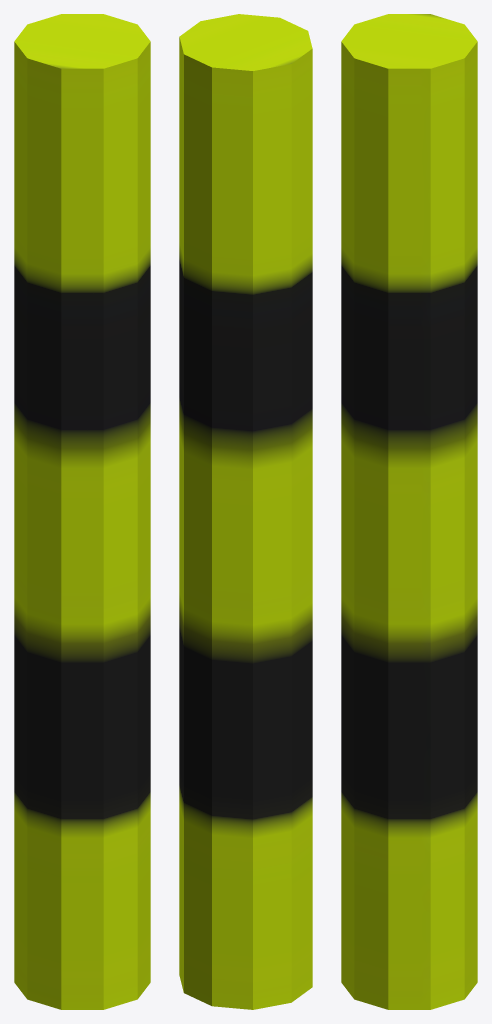
File: Road_mid_block.fbx
3 views of the same model, side by side, from view 1: azimuth 90°, elevation 25°; view 2: azimuth 150°, elevation 25°; view 3: azimuth 270°, elevation 25° (orthographic).
Visible parts, largest first — view 1: cone_04; view 2: cone_04; view 3: cone_04.
Boxes of the visible parts, left/top/right/bottom form: cone_04: left=14, top=14, right=150, bottom=1009; cone_04: left=179, top=14, right=312, bottom=1009; cone_04: left=341, top=14, right=477, bottom=1009.
Size of the model in its own units: 9.37 by 75.01 by 9.85.
